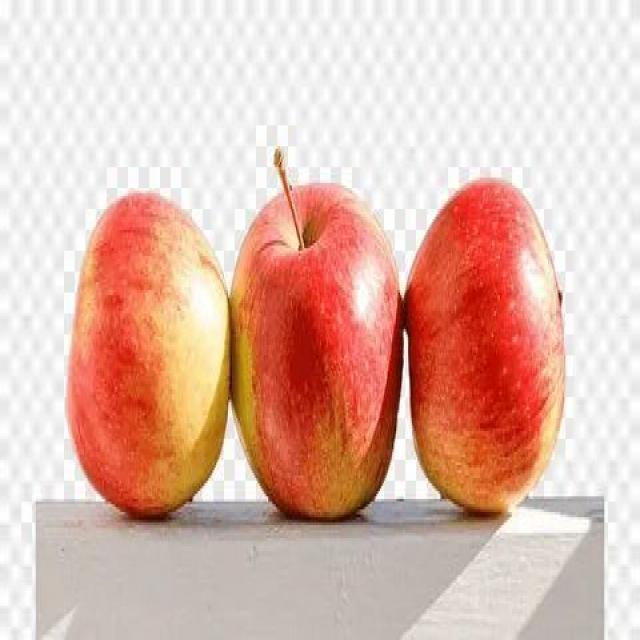fresh_apple: (230, 187, 402, 524), (66, 193, 230, 512)
rotten_apple: (407, 182, 564, 518)
